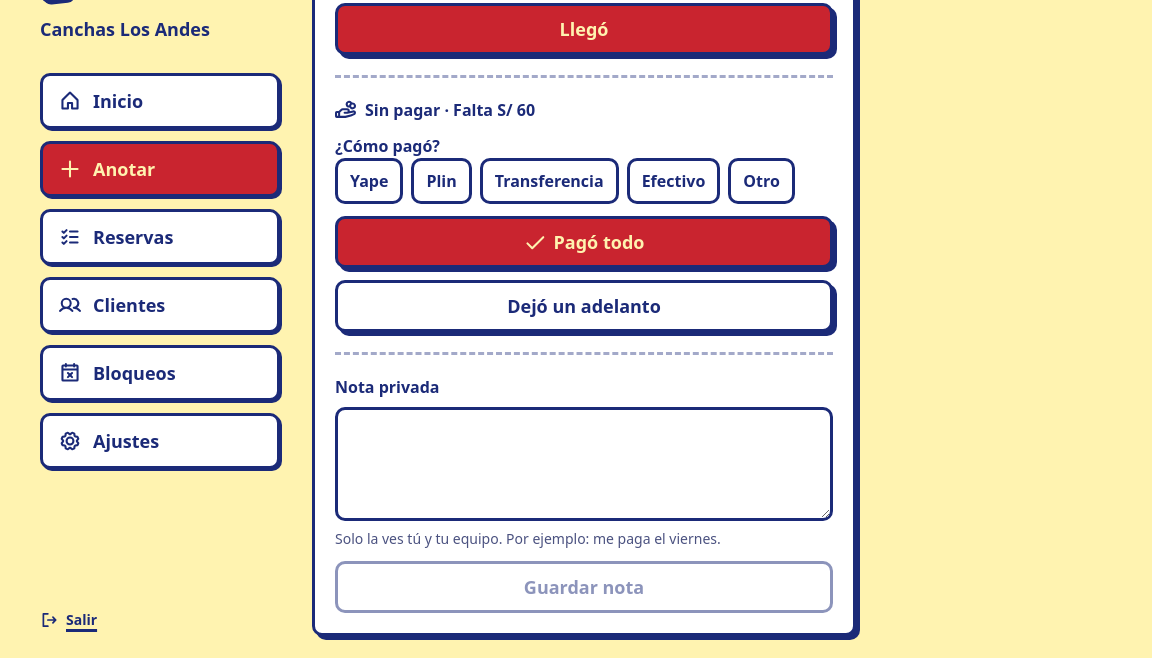
Test: payment › registers a deposit with its amount
(page scrolled)
Click the button "Dejó un adelanto". click: point(584, 306)
box: [335,280,833,332]
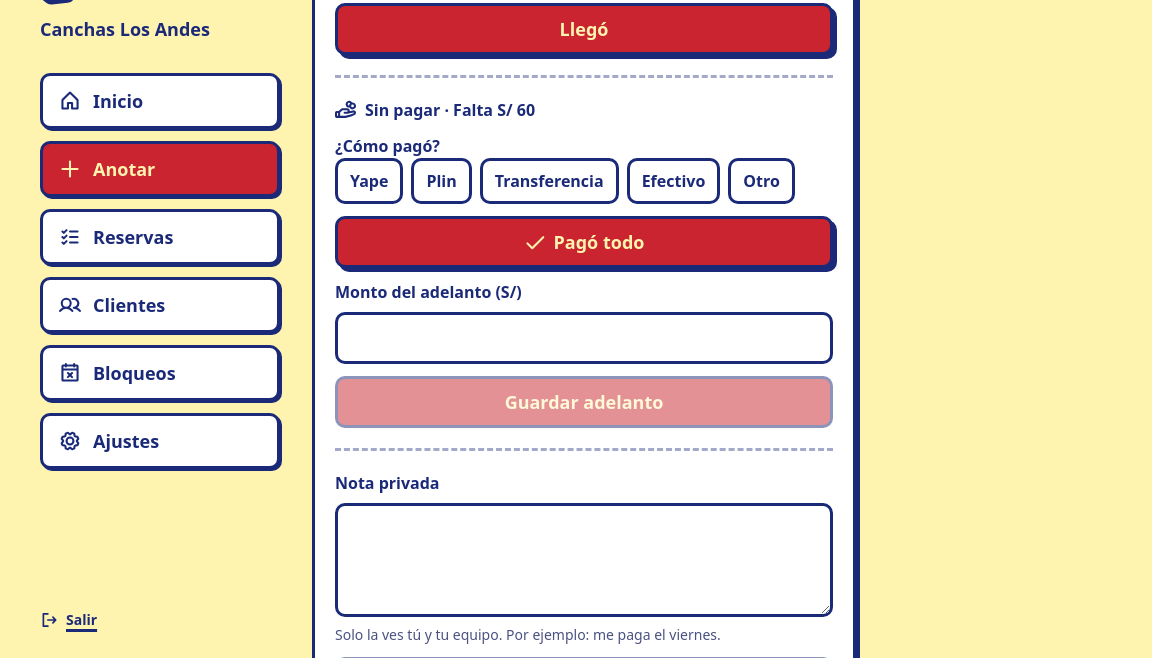
expect the button "Guardar adelanto" is disabled: met, box [335,376,833,428]
Type "20" into the field labelled "Monto del adelanto (S/)". click: point(584, 338)
box: [335,312,833,364]
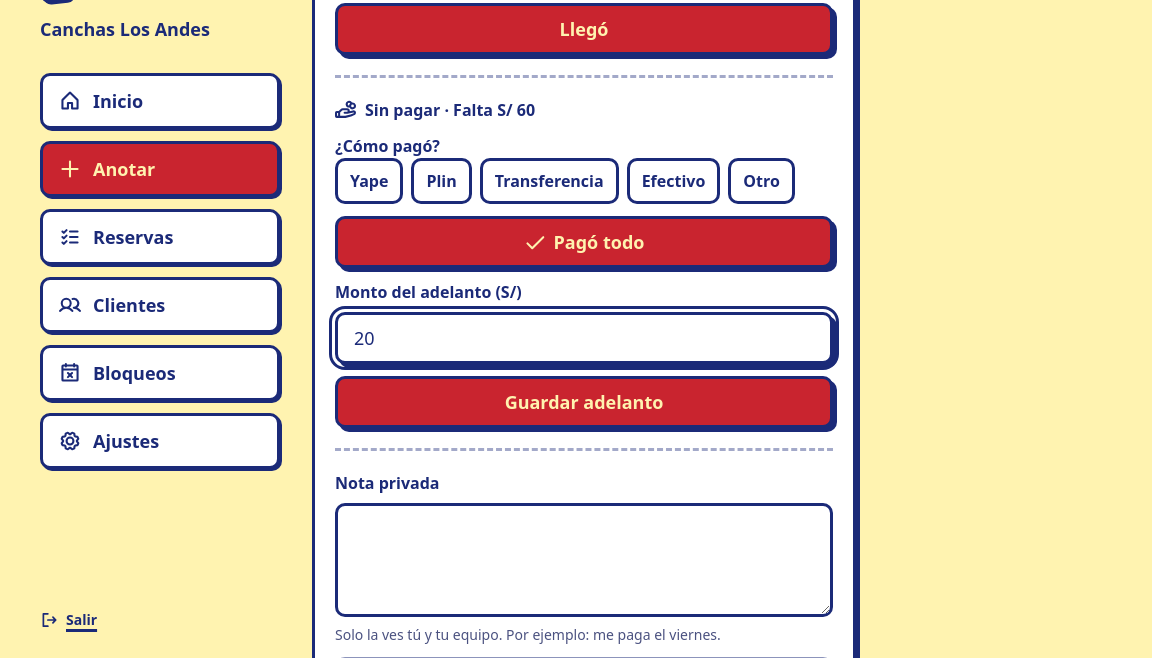
Click the button "Guardar adelanto". click: point(584, 402)
box: [335,376,833,428]
(page scrolled)
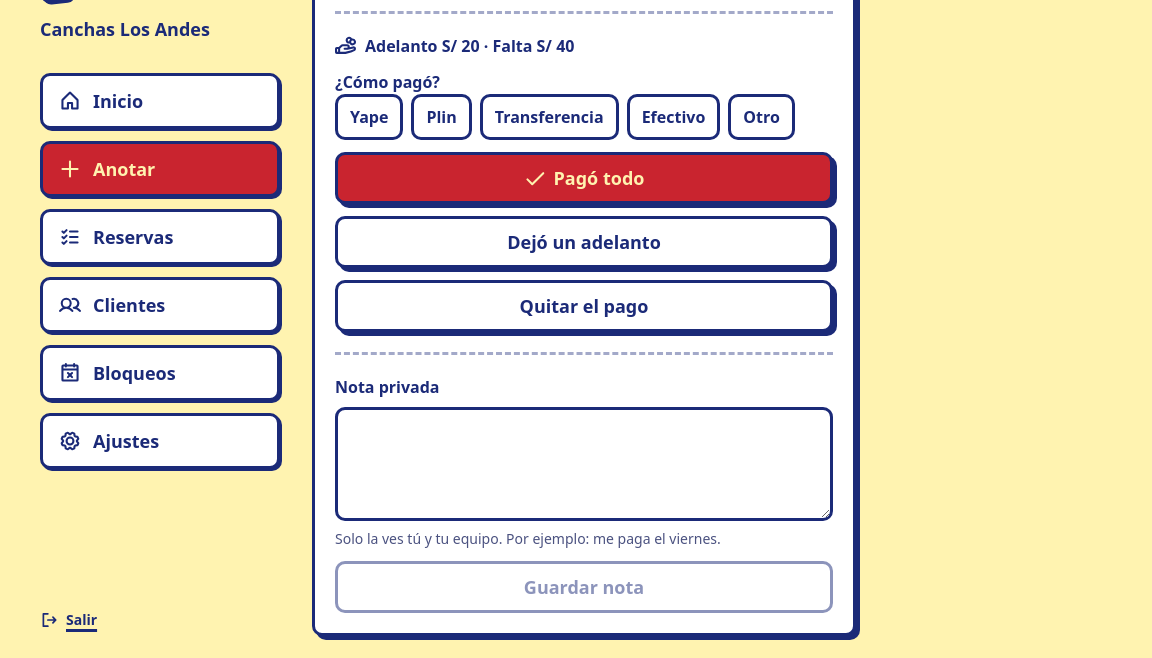
expect the text "Adelanto S/ 20 · Falta S/ 40" is shown: met, box [335,35,574,57]
